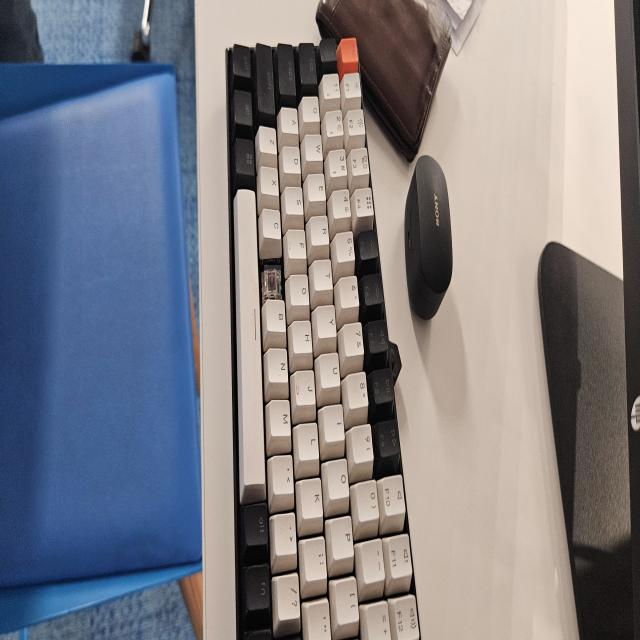C: (264, 265, 281, 295)
